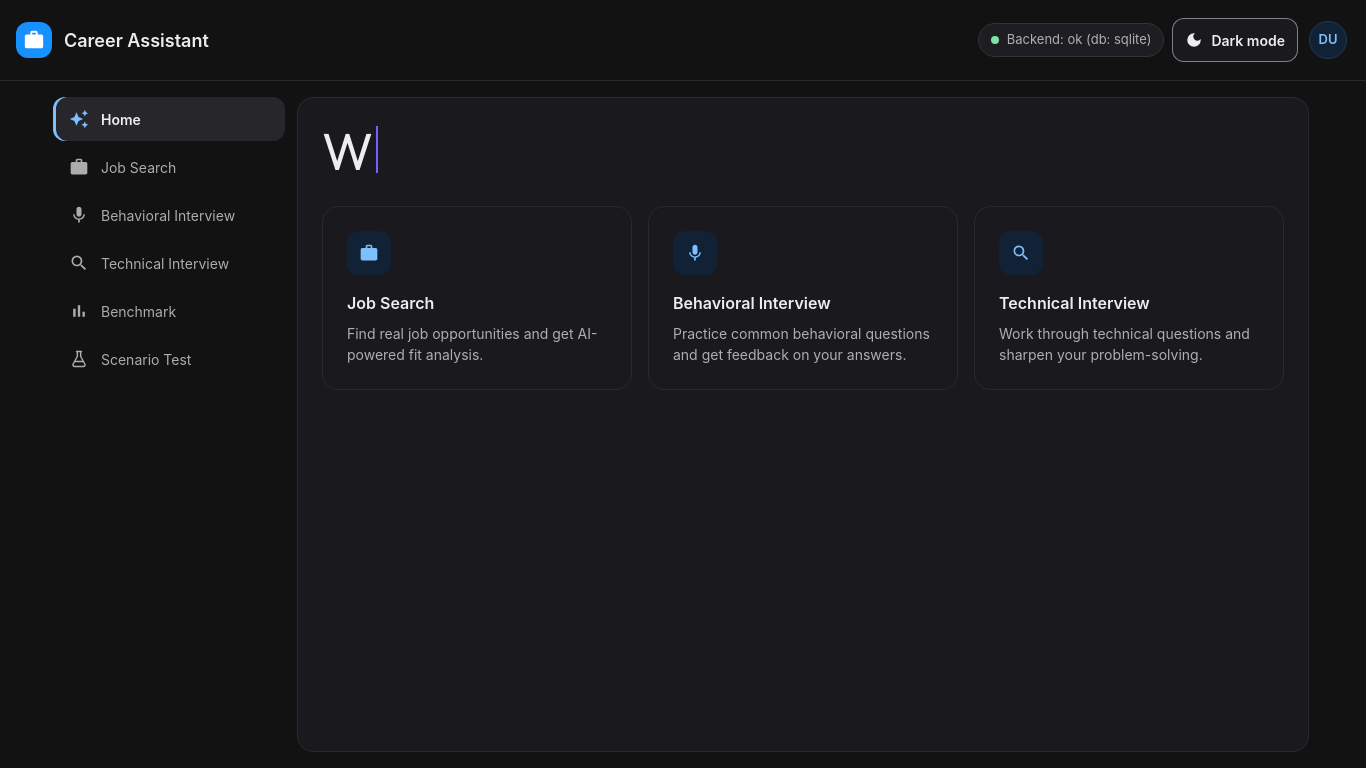
Test: App › lists the results without analyzing, and analyzes a job when it is opened
Click the button "Job Search" at (169, 167), box [53, 145, 285, 189]
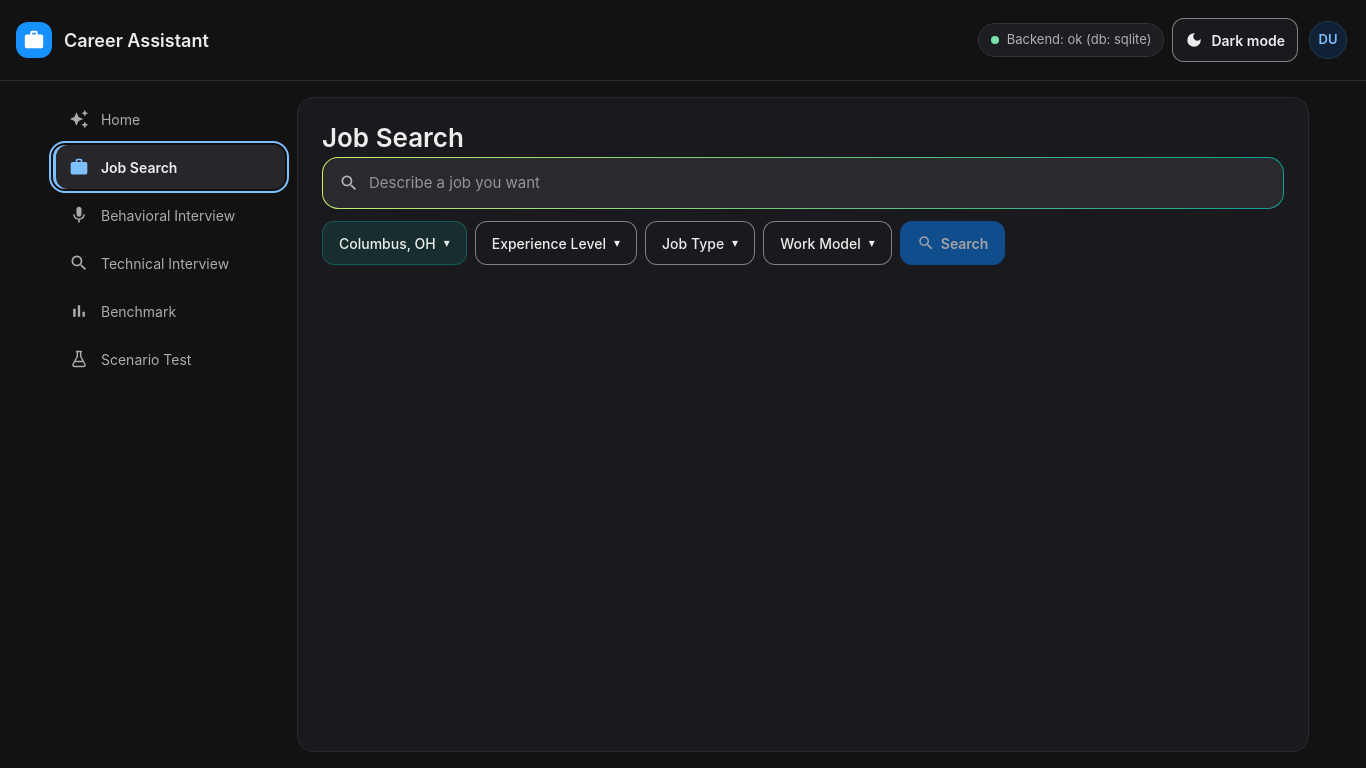
Type "Software Engineer Intern" into the field labelled "Describe a job you want" at (817, 183), box [367, 158, 1267, 208]
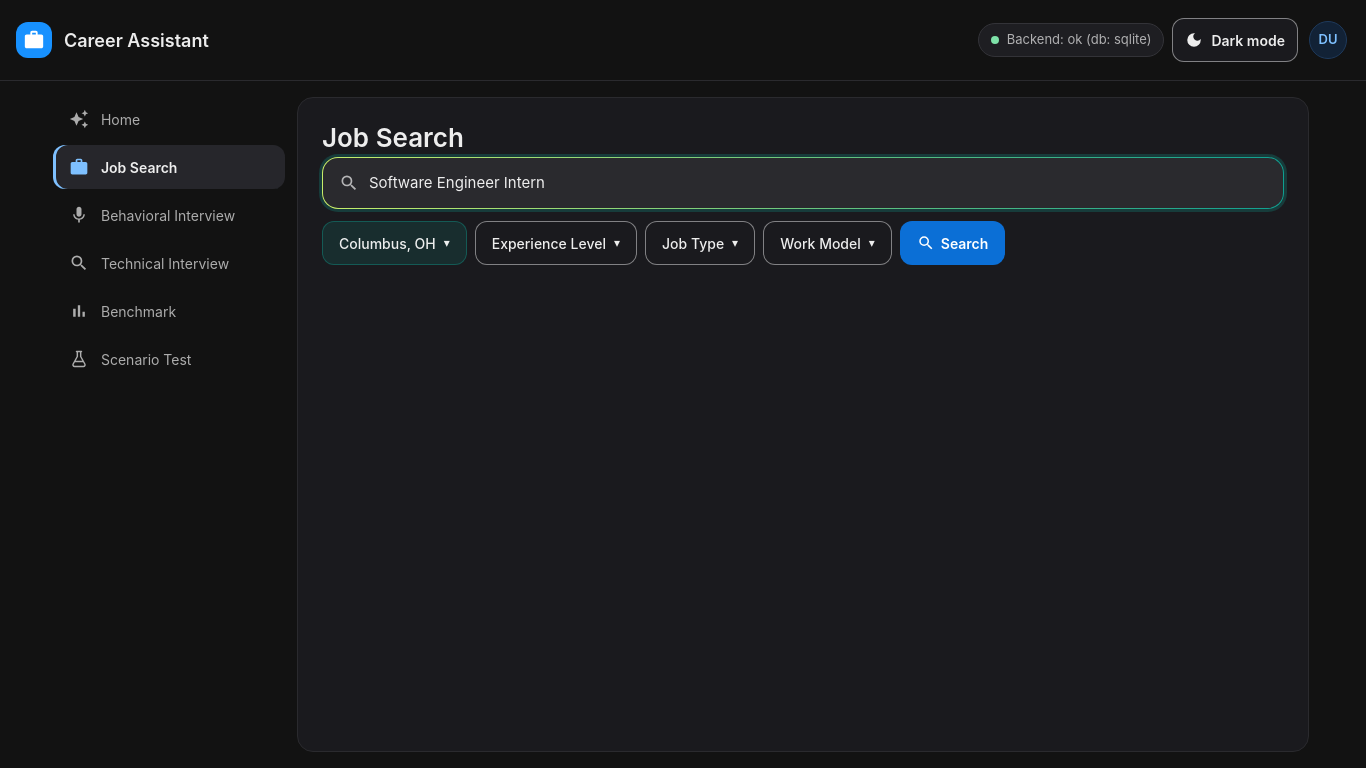
Click the button "Search" at (953, 243), box [900, 221, 1005, 265]
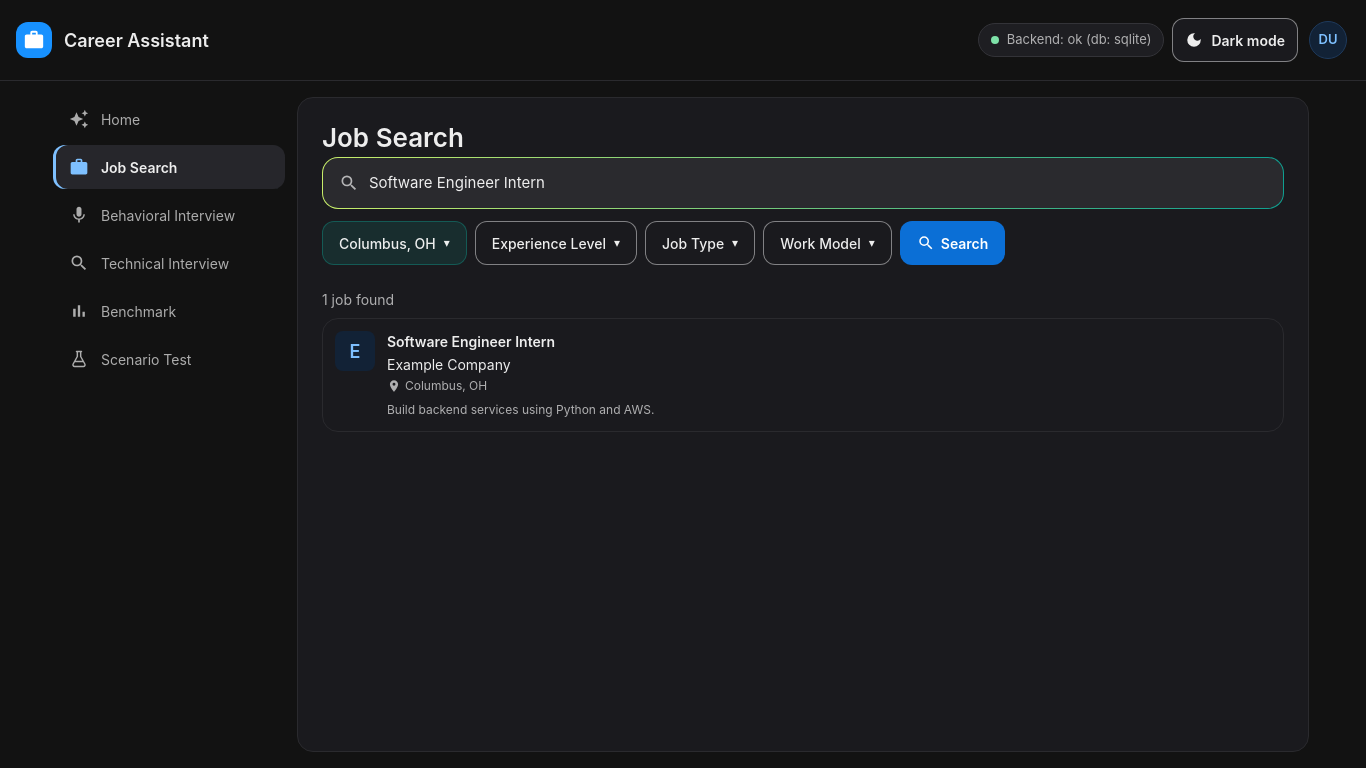
Now the text "Software Engineer Intern" is shown, box [387, 333, 555, 350]
Click the button "Software Engineer Intern" at (355, 351), box [322, 318, 1284, 432]
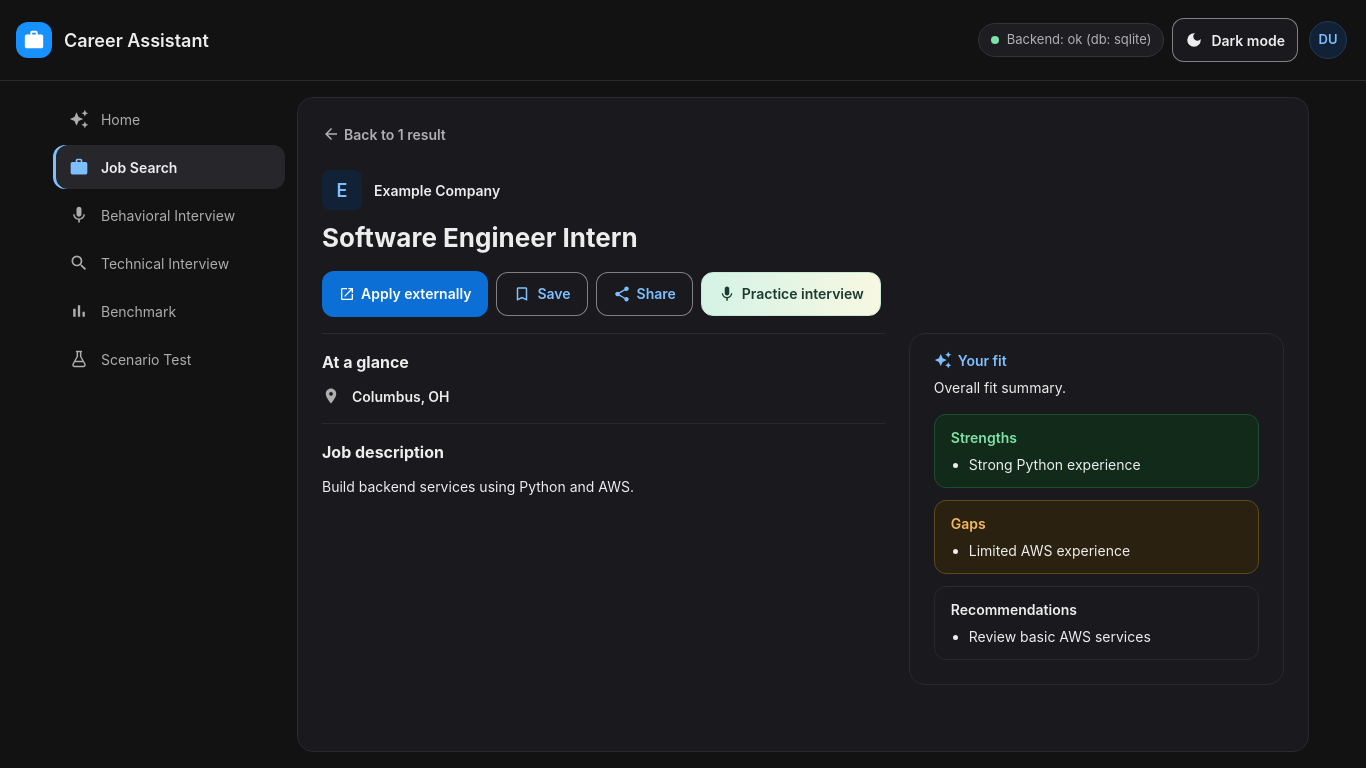
Now the text "Overall fit summary." is shown, box [934, 378, 1066, 396]
Now the list item "Strong Python experience" is shown, box [969, 456, 1141, 472]
